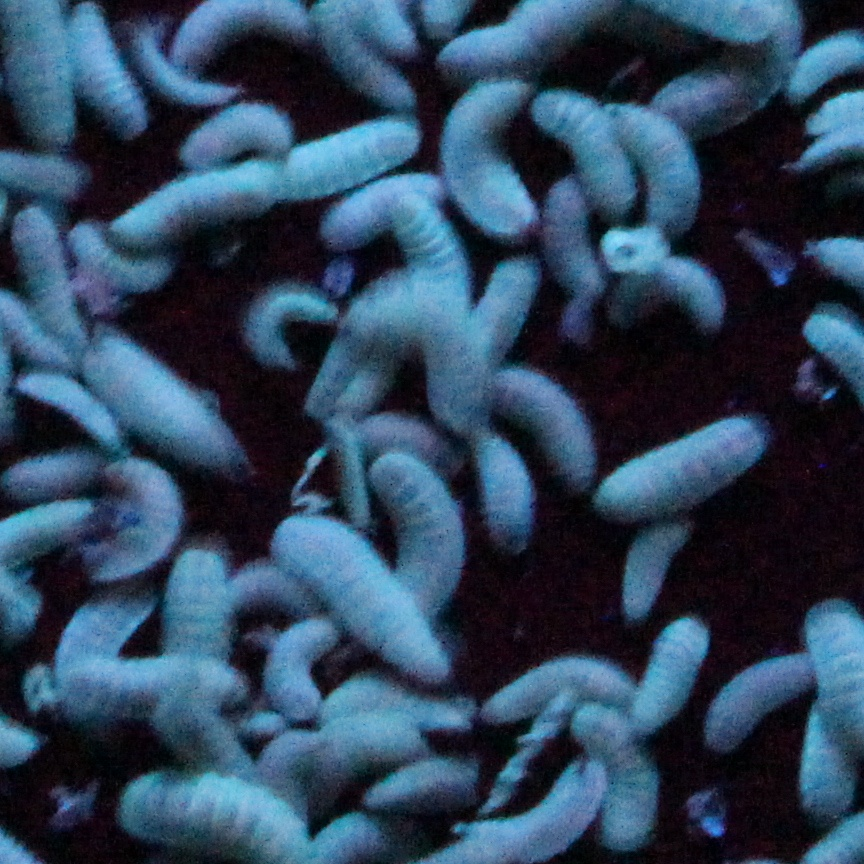larve: (105, 339, 251, 457), (441, 75, 544, 235), (362, 464, 466, 618), (600, 410, 755, 506), (0, 6, 96, 158), (119, 164, 273, 250), (408, 253, 487, 418), (708, 631, 810, 757), (233, 254, 337, 377), (80, 464, 183, 585), (323, 0, 423, 107), (623, 107, 705, 225), (12, 207, 87, 332), (163, 534, 231, 661), (629, 617, 707, 717), (598, 257, 719, 321), (270, 132, 407, 188), (477, 421, 533, 558), (555, 107, 626, 207), (150, 696, 251, 764), (486, 655, 628, 702), (74, 660, 254, 696), (461, 804, 601, 845), (601, 735, 654, 842), (312, 536, 386, 612), (611, 528, 685, 602), (367, 768, 482, 808), (317, 717, 425, 758), (264, 637, 320, 702), (796, 754, 848, 813)
